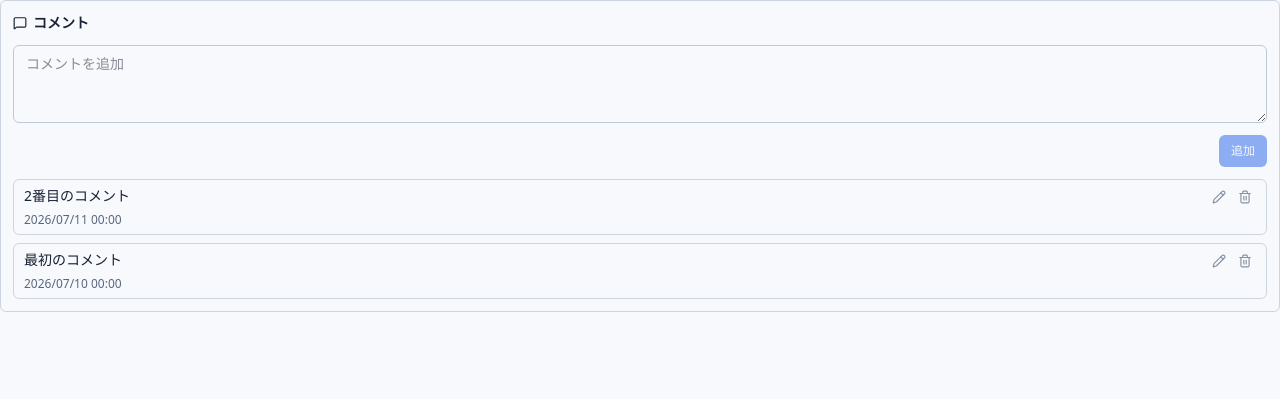
Test: TaskComments › 本文をクリックして編集した内容をキャンセルすると元のコメントを保持する
The image size is (1280, 399).
Click the button "2番目のコメント" at (77, 196), box [24, 186, 1200, 206]
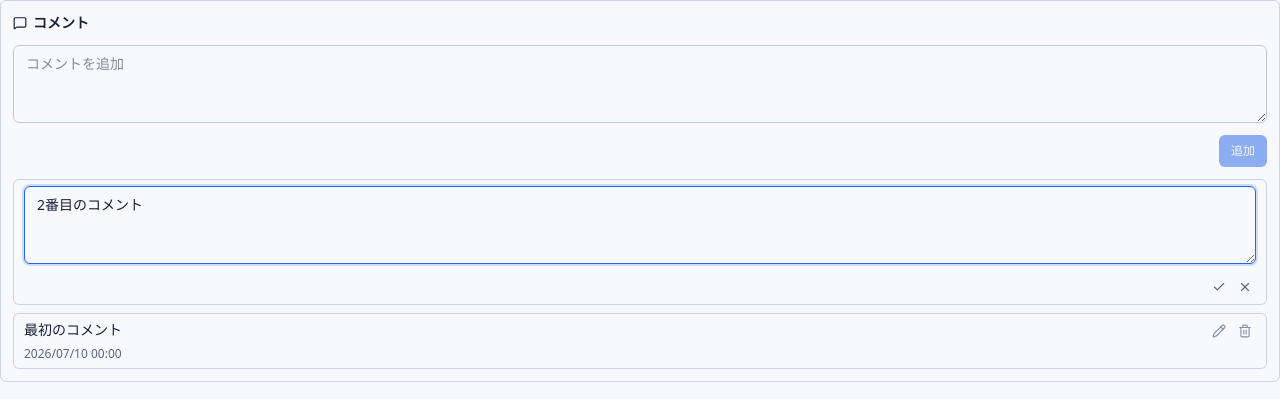
Replace the text in the text box named "コメント本文" with "保存しない変更" at (640, 225), box [24, 186, 1256, 264]
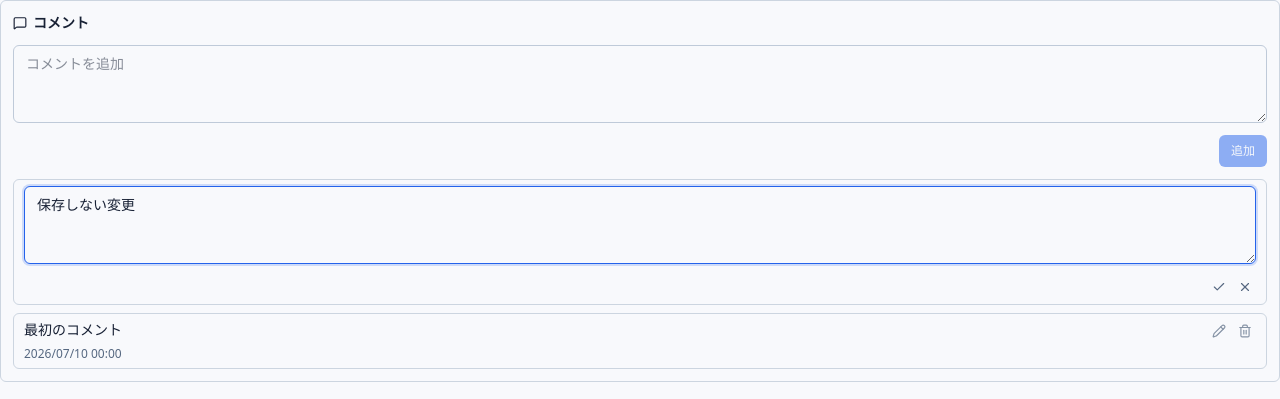
Click the button named "コメントの編集をキャンセル" at (1245, 287), box [1234, 276, 1256, 298]
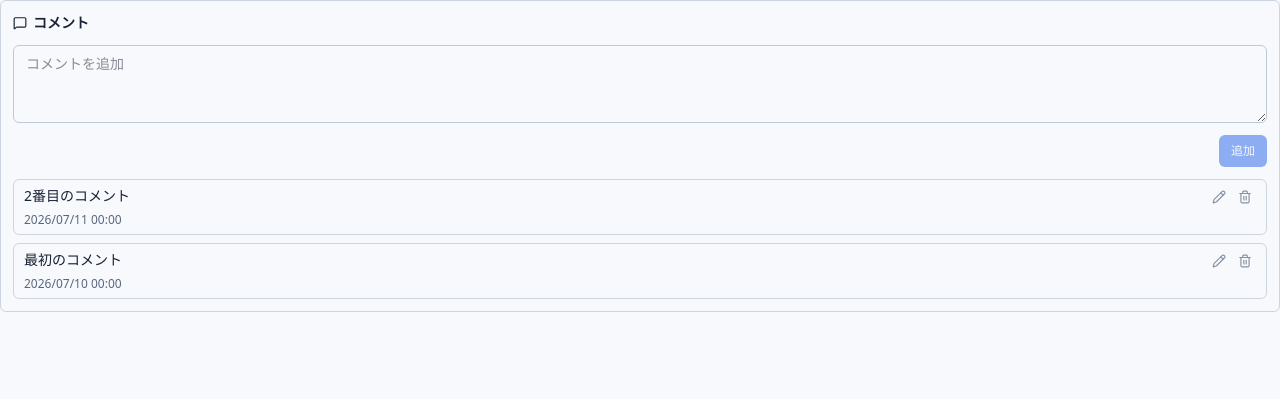
Expected: the field labelled "コメント本文" is not shown
Expected: the button "2番目のコメント" is shown
Click the button "2番目のコメント" at (77, 196), box [24, 186, 1200, 206]
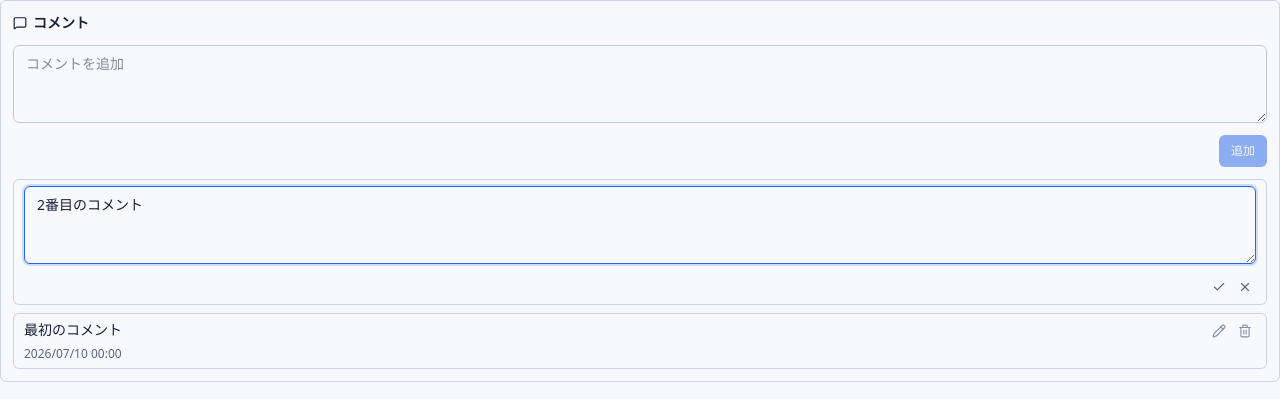
Expected: the text box named "コメント本文" holds "2番目のコメント", [24, 186, 1256, 264]
